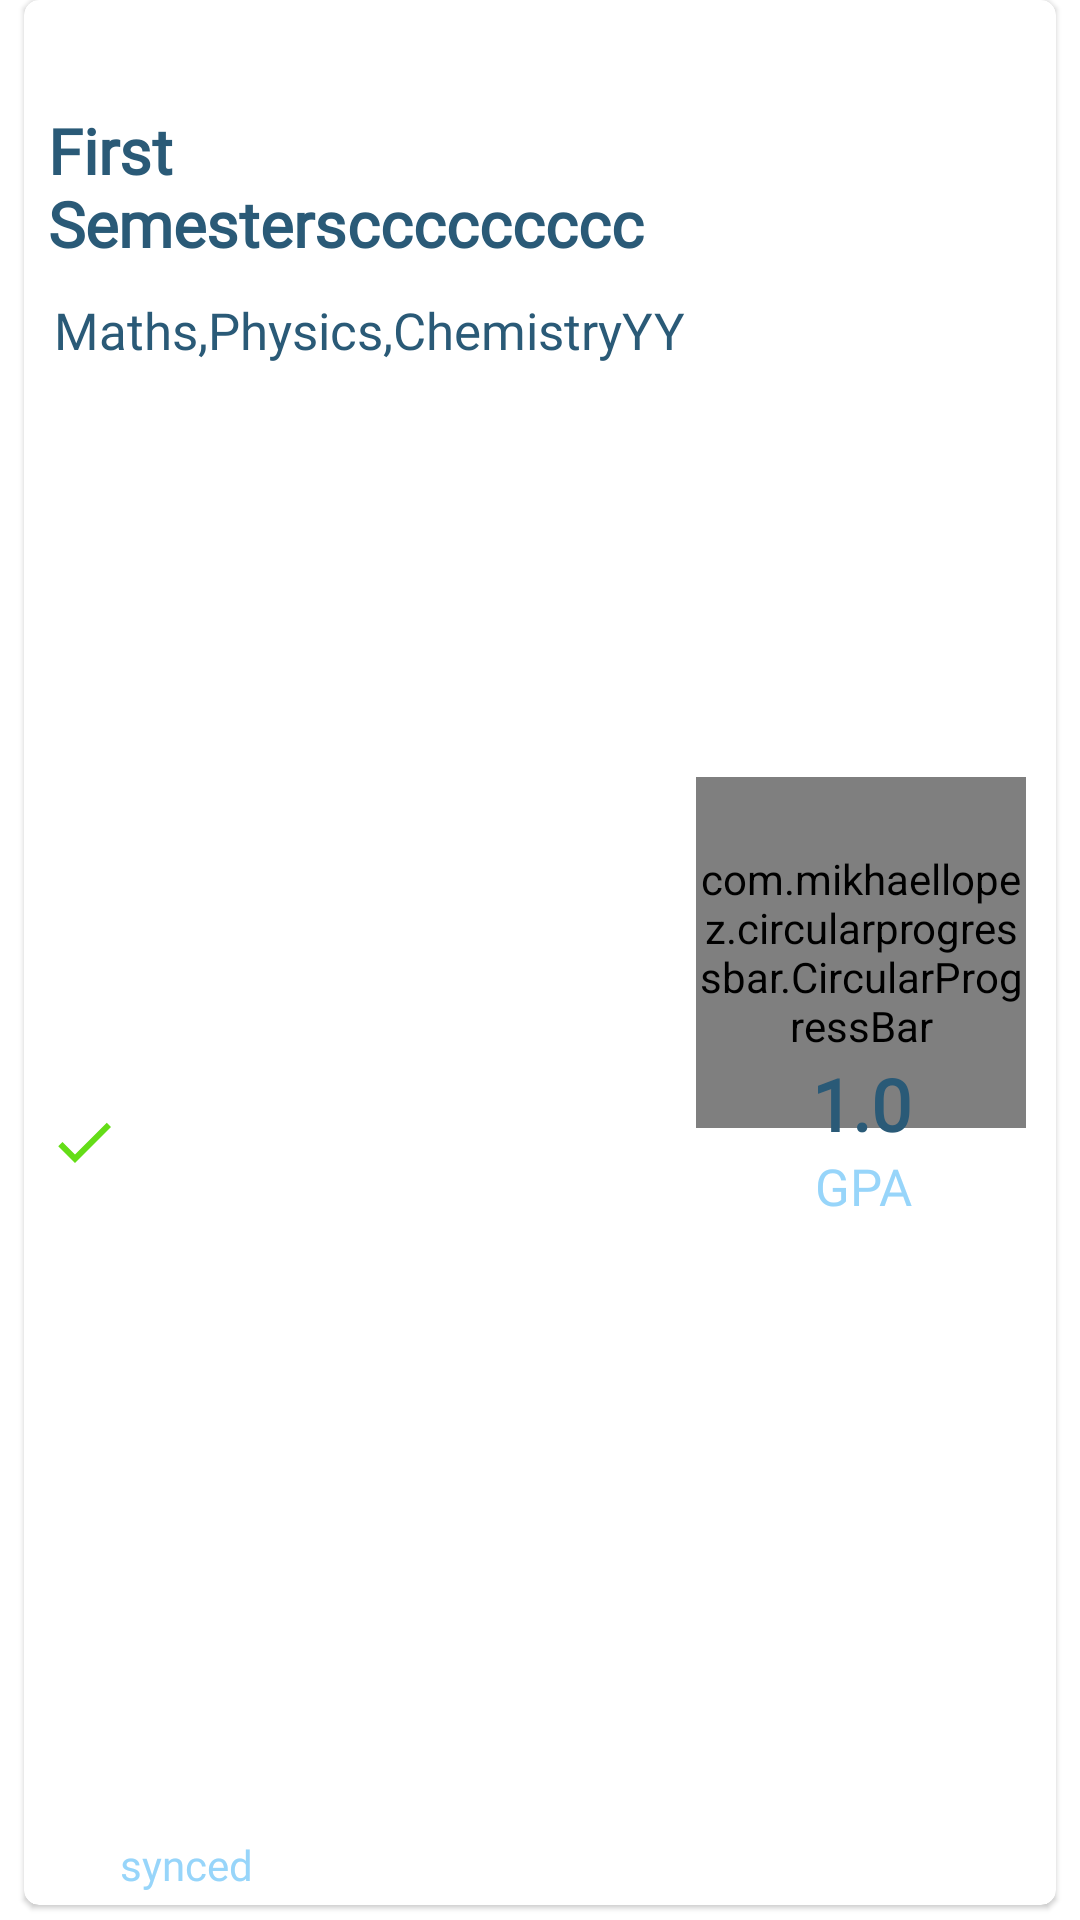

Icon bounding boxes for this 1080×1920 phone screenshot, format (x1, y1, x2, y2):
check: (58, 1123, 111, 1163)
